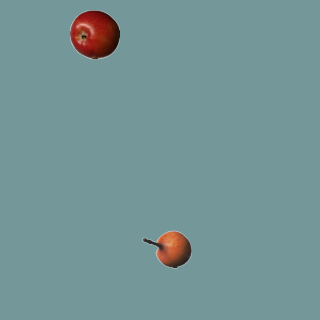Apple Braeburn: (69, 9, 119, 59)
Granadilla: (141, 224, 191, 274)
